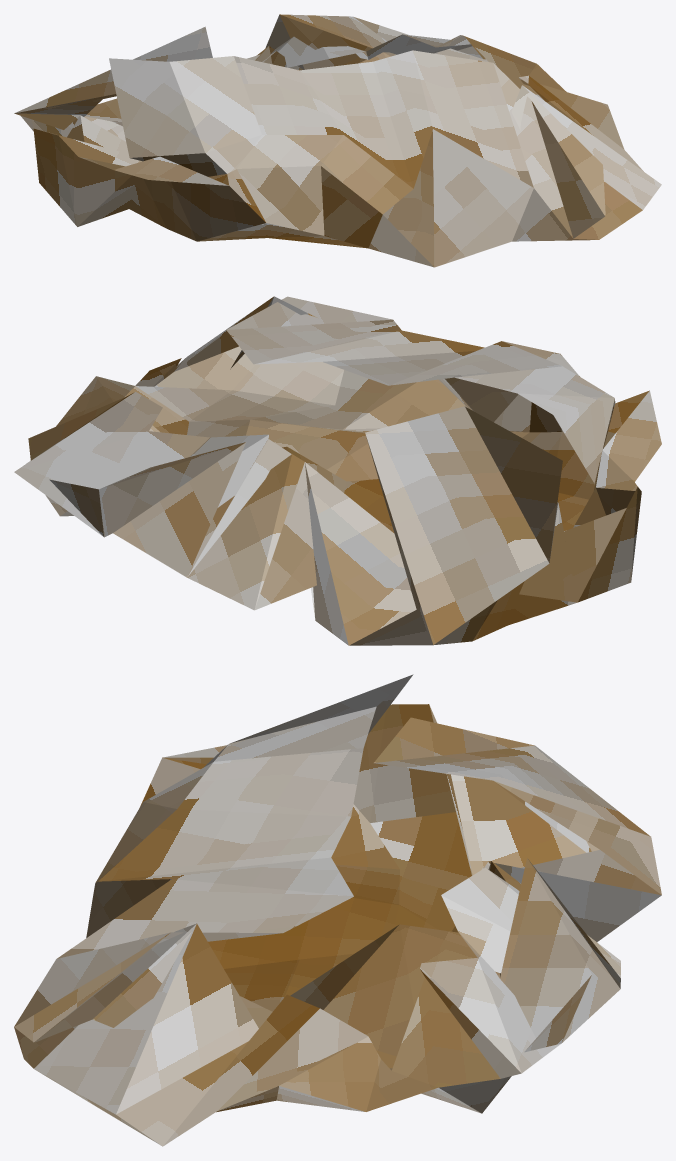
The model's file is tissue.glb.
3 views of the same model, one above another, from view 1: azimuth 30°, elevation 25°; view 2: azimuth 150°, elevation 25°; view 3: azimuth 270°, elevation 25° (orthographic). The views are drawn at different scales.
Parts seen in each view (by area): view 1: Grid; view 2: Grid; view 3: Grid.
Boxes of the visible parts, box(x1,y1,x2,y2) form: Grid: box(14, 14, 661, 267); Grid: box(14, 296, 661, 645); Grid: box(14, 674, 661, 1146).
Bounding box in the file's own units: 0.162 × 0.0524 × 0.1421.
1 material, 1 textured.
